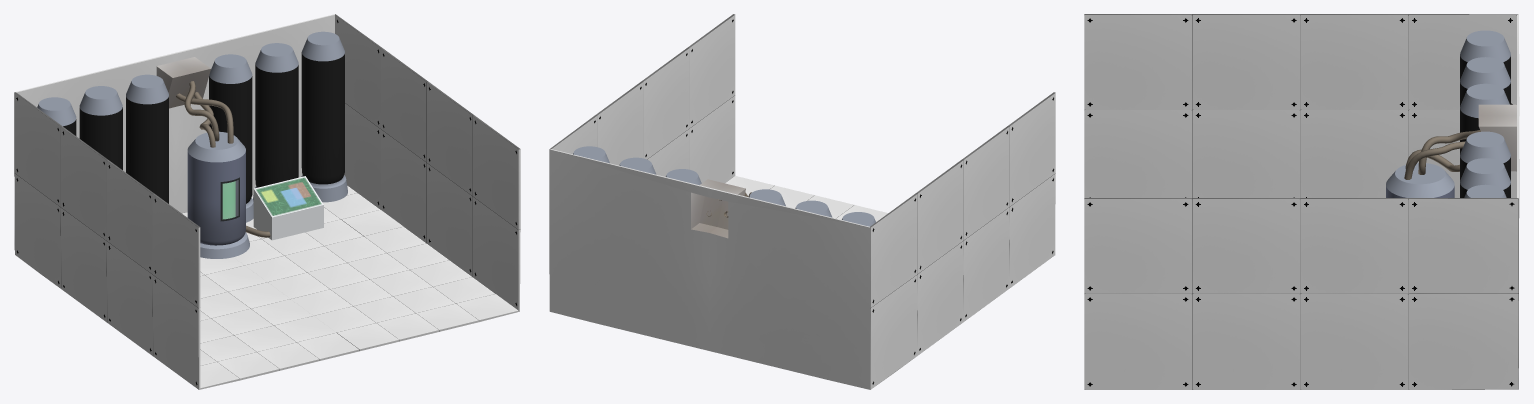
Rendered from Labo.fbx.
3 views of the same model, side by side, from view 1: azimuth 30°, elevation 25°; view 2: azimuth 150°, elevation 25°; view 3: azimuth 270°, elevation 25° (orthographic). The views are drawn at different scales.
Visible parts, largest first — view 1: Room, Back, Main, Computer, Code; view 2: Room, Back; view 3: Room, Back, Main, Code.
Boxes of the visible parts, left/top/right/bottom form: Room: left=14, top=14, right=520, bottom=389; Back: left=37, top=31, right=347, bottom=222; Main: left=187, top=131, right=249, bottom=258; Computer: left=253, top=176, right=323, bottom=240; Code: left=176, top=81, right=270, bottom=237; Room: left=549, top=14, right=1055, bottom=389; Back: left=573, top=146, right=875, bottom=226; Room: left=1084, top=14, right=1519, bottom=389; Back: left=1460, top=30, right=1510, bottom=197; Main: left=1386, top=163, right=1454, bottom=197; Code: left=1404, top=130, right=1480, bottom=179.
Bounding box in the file's own units: 2032 × 984 × 2020.
10 materials, 9 textured.
